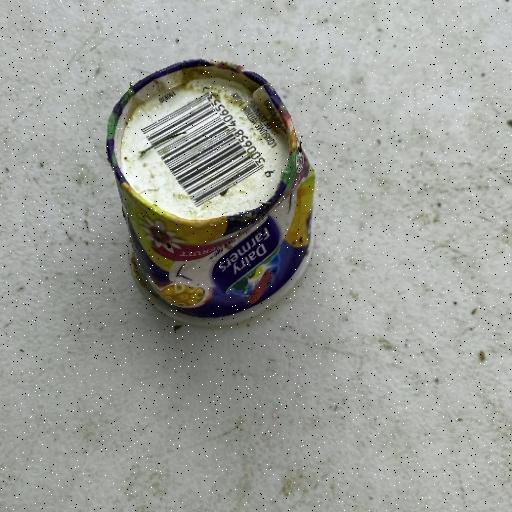Plastic: (102, 56, 318, 330)
